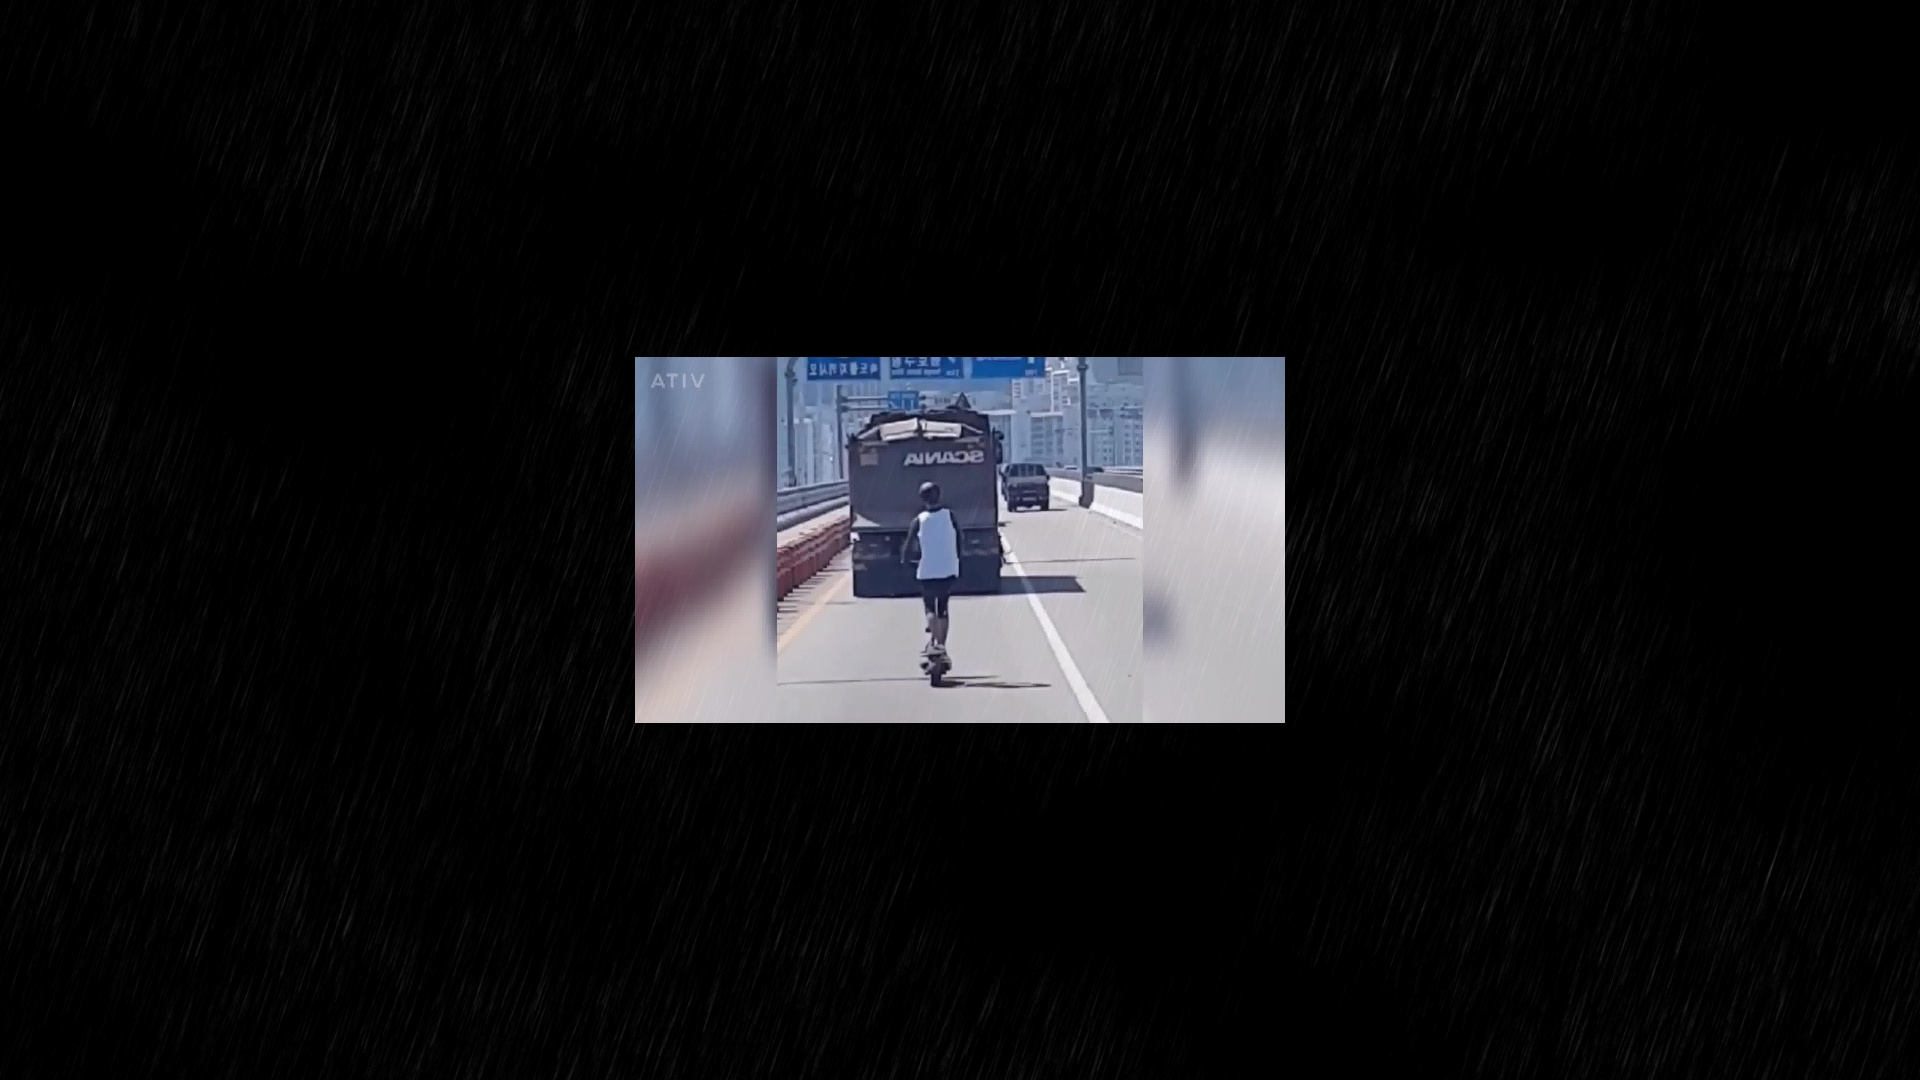person: (845, 396, 1007, 679)
